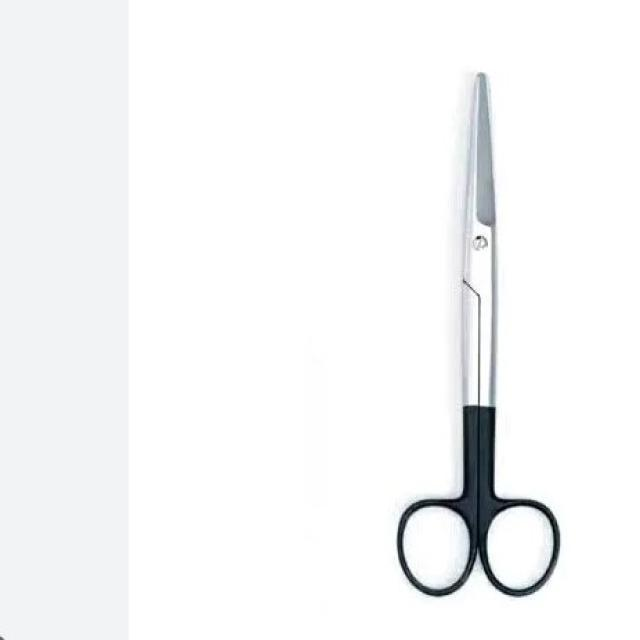Straight Mayo: (390, 64, 566, 603)
